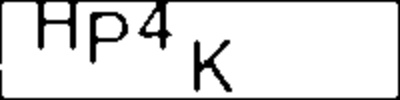4: (141, 1, 175, 50)
H: (34, 1, 82, 52)
K: (194, 36, 238, 95)
P: (86, 7, 136, 68)
